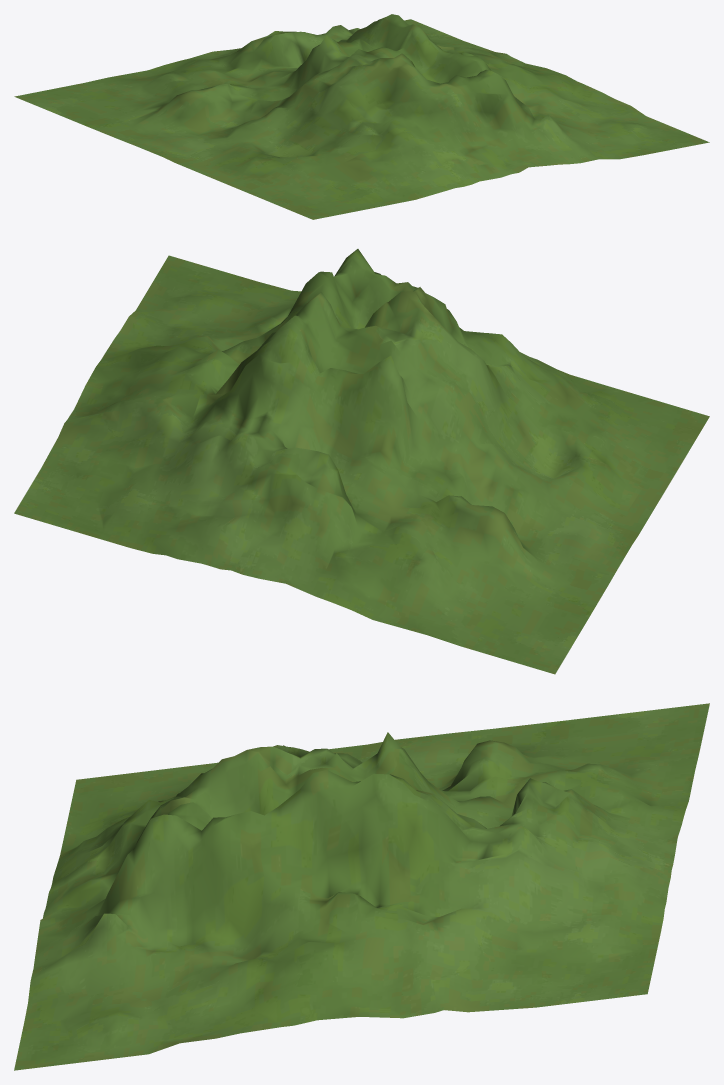
The model's file is Terrain.fbx.
The picture shows the model from 3 angles, top to bottom: view 1: azimuth 30°, elevation 25°; view 2: azimuth 150°, elevation 25°; view 3: azimuth 270°, elevation 25°; orthographic projection. The views are drawn at different scales.
Parts seen in each view (by area): view 1: Terrain; view 2: Terrain; view 3: Terrain.
Part boxes in pixels (x1,y1,x2,y2): Terrain: [14, 14, 709, 219]; Terrain: [14, 249, 709, 674]; Terrain: [14, 703, 709, 1070].
Size of the model in its own units: 11746 by 2219 by 9428.
